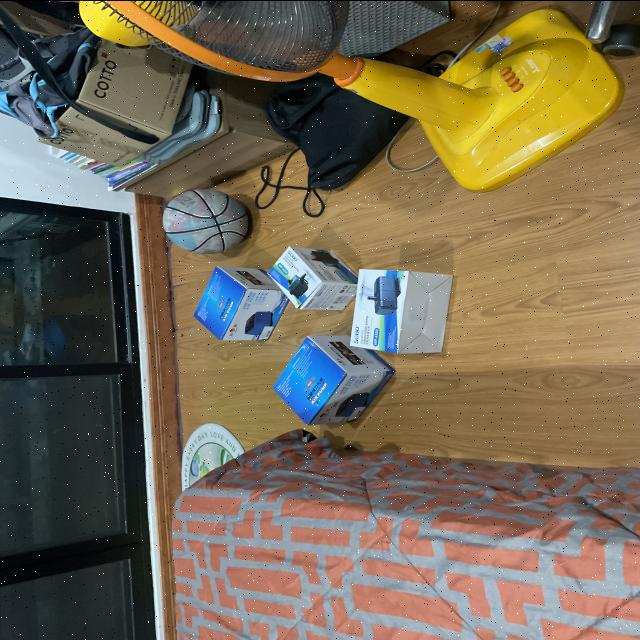SOBO_WP_4200: (343, 253, 457, 360), (255, 222, 367, 324)
YAMANO_LPP_20: (270, 334, 399, 428), (192, 264, 300, 352)
